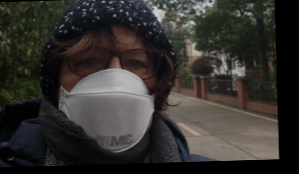with_mask: (57, 37, 159, 153)
